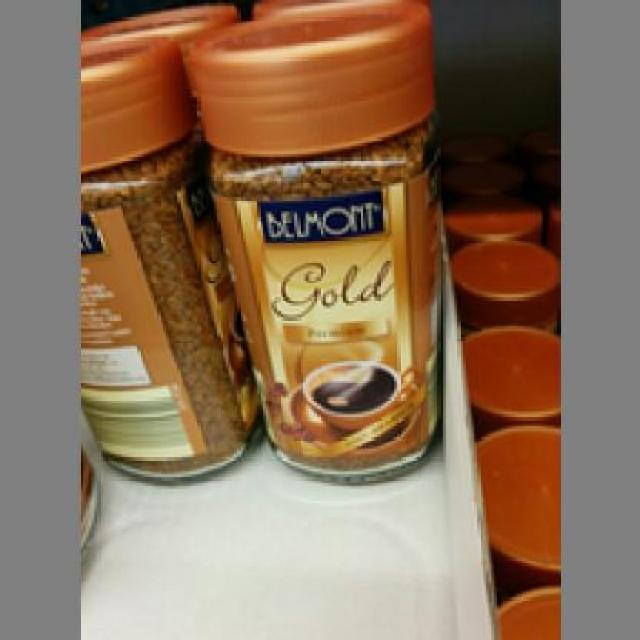Coffee: (183, 3, 440, 483), (78, 31, 252, 478)
